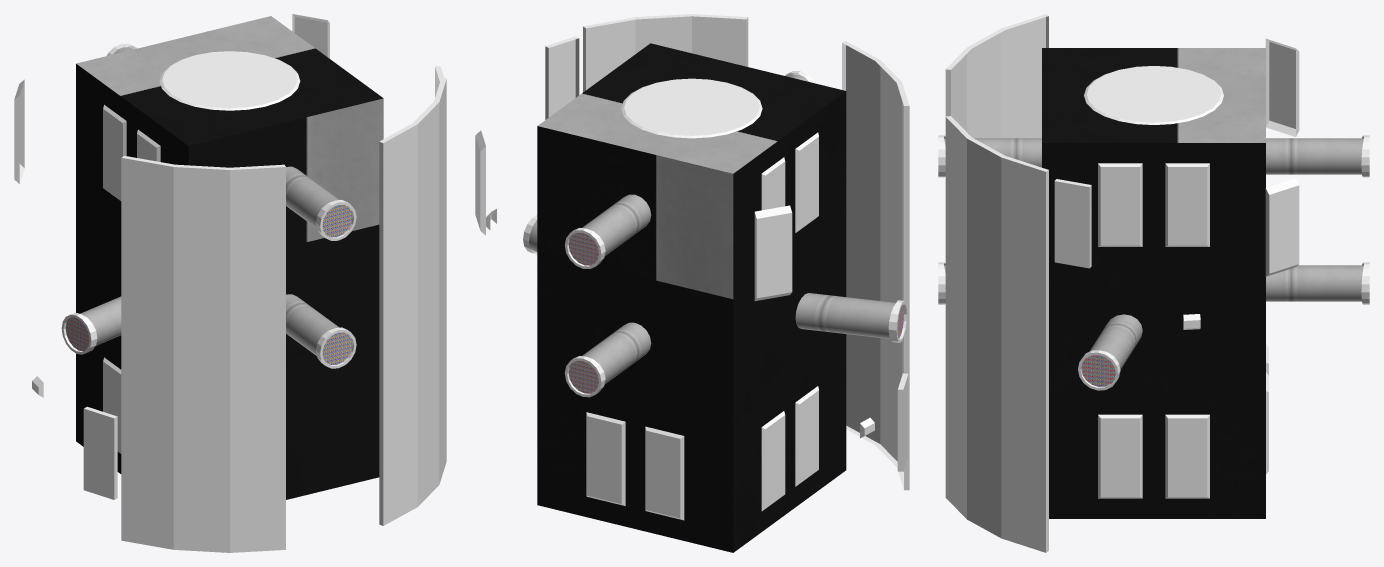
File: vega_crew_s1p5_1_interior.obj
3 renders of one model, left to right at view 1: azimuth 30°, elevation 25°; view 2: azimuth 150°, elevation 25°; view 3: azimuth 270°, elevation 25°, orthographic.
Parts seen in each view (by area): view 1: im1, i1, iw1; view 2: i1, im1, iw1; view 3: i1, im1, iw1.
Boxes of the visible parts, box(x1,y1,x2,y2) form: im1: box(14, 14, 446, 552); i1: box(76, 16, 383, 499); iw1: box(65, 205, 352, 364); i1: box(529, 43, 895, 552); im1: box(475, 14, 909, 520); iw1: box(568, 233, 904, 393); i1: box(944, 48, 1363, 518); im1: box(938, 14, 1369, 552); iw1: box(1081, 355, 1115, 386).
Size of the model in its own units: 1.91 by 1.88 by 1.92.
